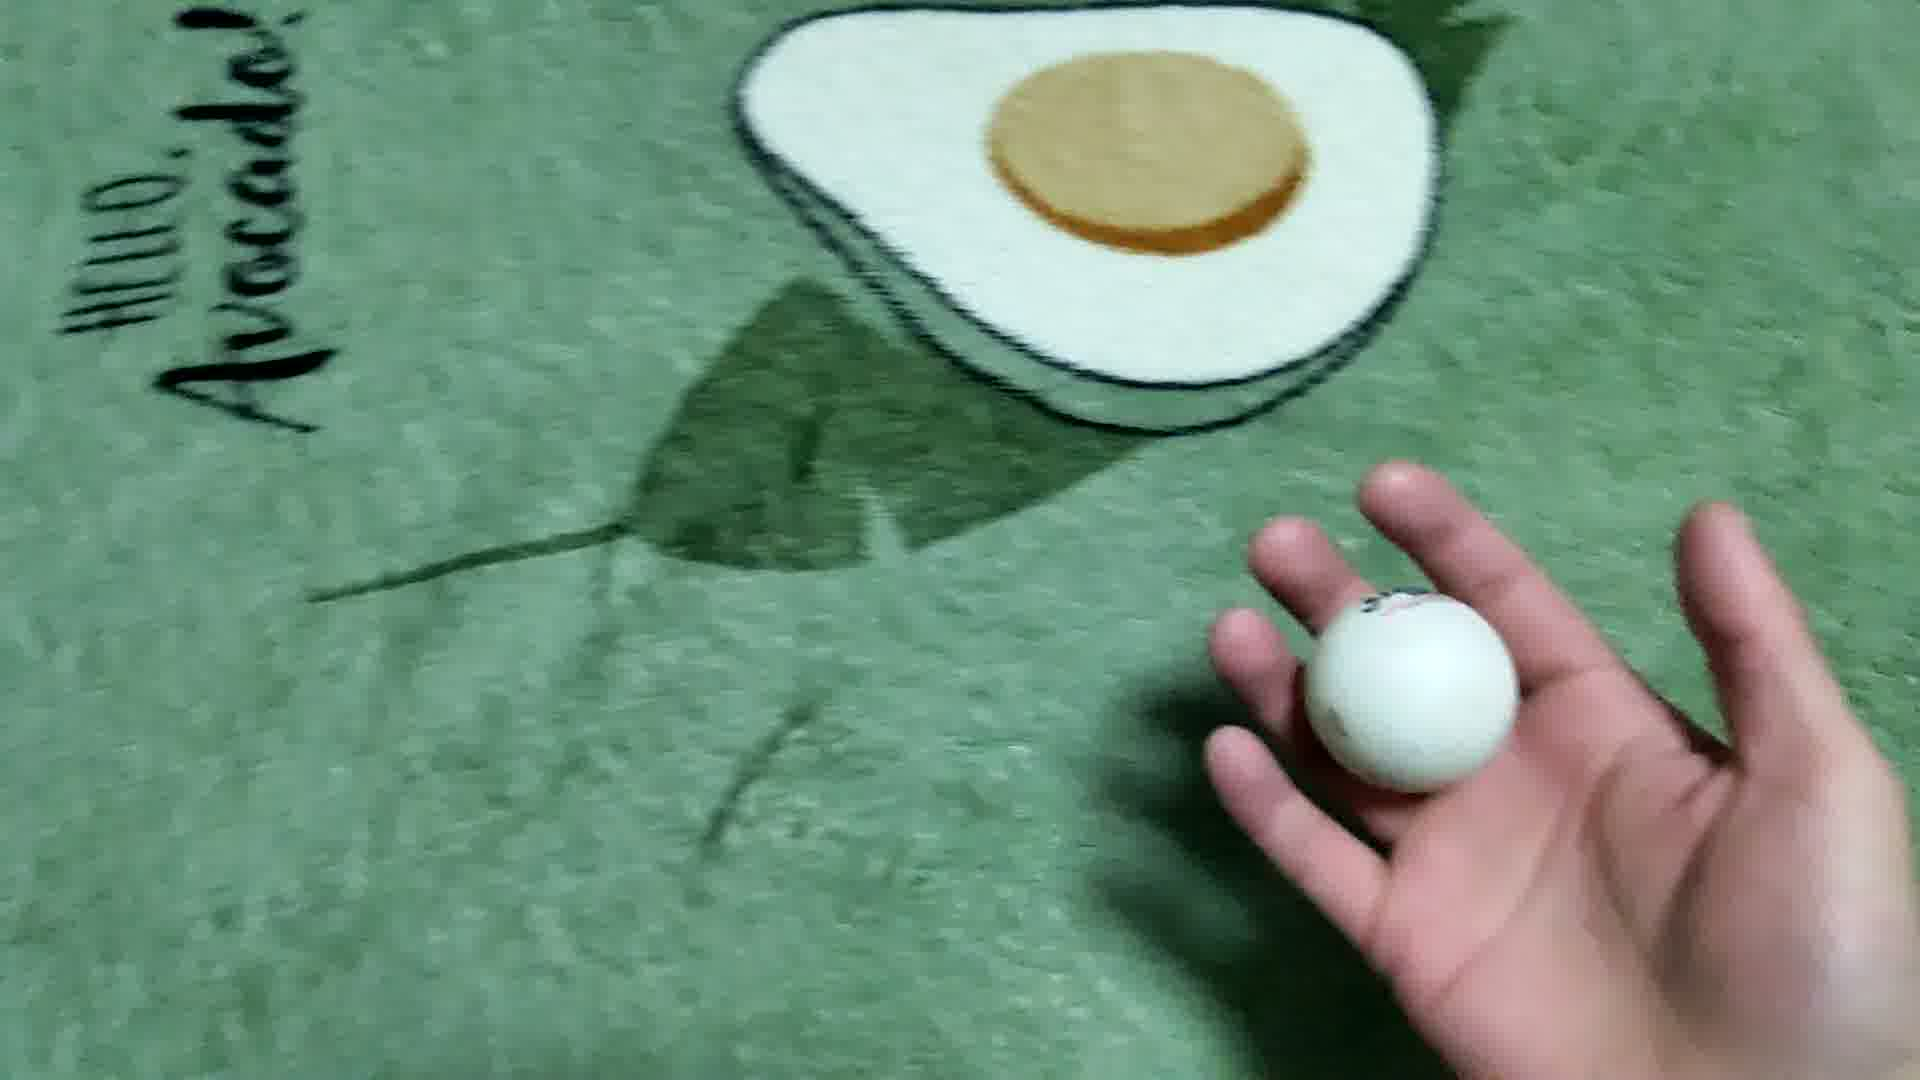Ball: (1309, 585, 1527, 795)
